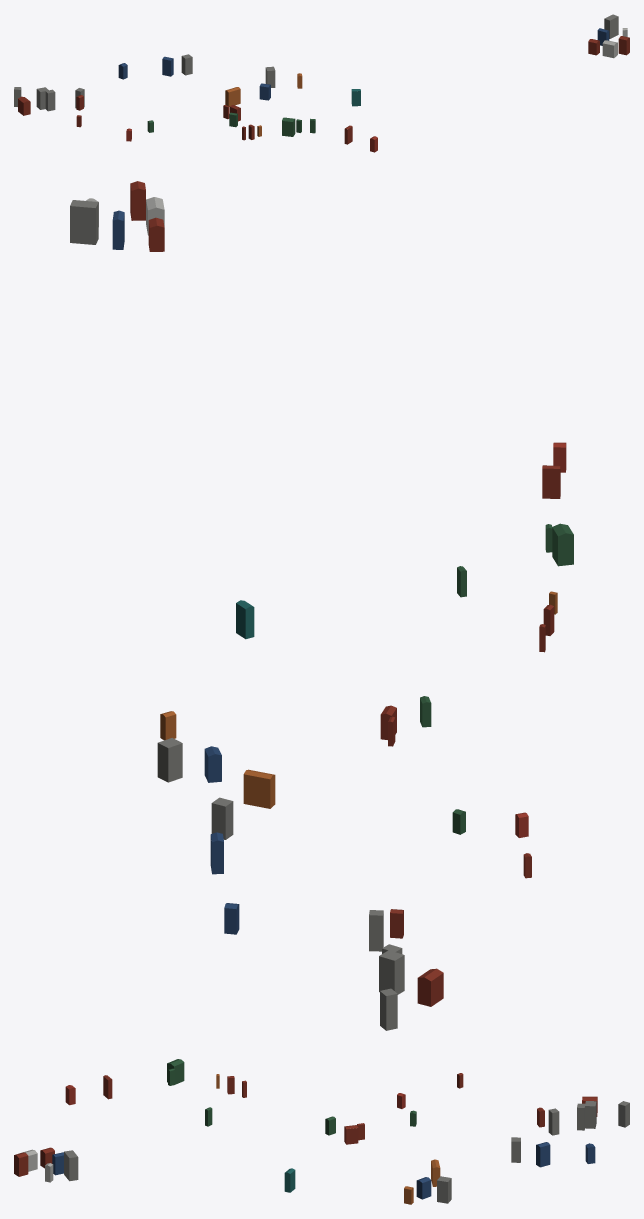
File: near-16-54716-29731.8a1012e4.glb
3 views of the same model, one above another, from view 1: azimuth 30°, elevation 25°; view 2: azimuth 150°, elevation 25°; view 3: azimuth 270°, elevation 25° (orthographic). The views are drawn at different scales.
Bounding box in the file's own units: 541 × 210 × 588.
